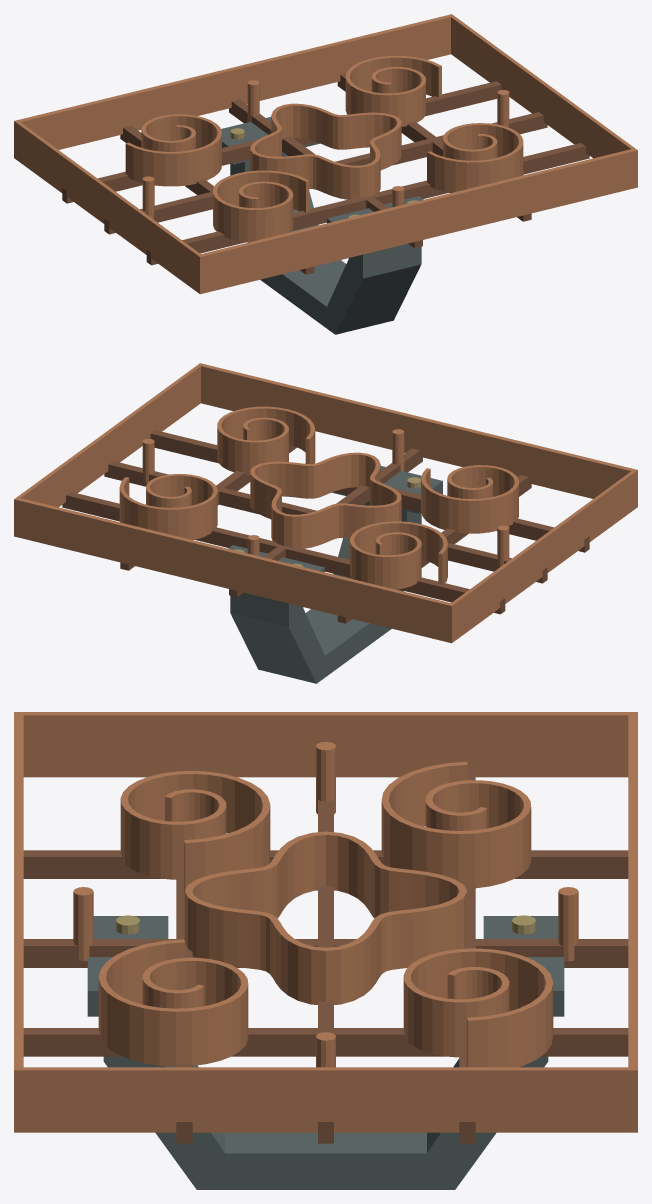
3 renders of one model, top to bottom at view 1: azimuth 30°, elevation 25°; view 2: azimuth 150°, elevation 25°; view 3: azimuth 270°, elevation 25°, orthographic. The views are drawn at different scales.
Visible parts, largest first — view 1: WholeContinuousCopperBorderStrip, WholeCentralFourLobeContinuousCopperLoop, WholeReturnArchIronHandGrip, WholeInventedInwardScrollStrip3, WholeInventedInwardScrollStrip0, WholeInventedInwardScrollStrip1, WholeInventedInwardScrollStrip2, WholeLongBackGridBar0, WholeLongBackGridBar1, WholeLongBackGridBar2, WholeShortBackGridBar1, WholeShortBackGridBar2 (+5 smaller); view 2: WholeContinuousCopperBorderStrip, WholeCentralFourLobeContinuousCopperLoop, WholeReturnArchIronHandGrip, WholeInventedInwardScrollStrip0, WholeInventedInwardScrollStrip3, WholeInventedInwardScrollStrip1, WholeInventedInwardScrollStrip2, WholeLongBackGridBar2, WholeLongBackGridBar1, WholeLongBackGridBar0, WholeShortBackGridBar1, WholeGripRootPlate0 (+5 smaller); view 3: WholeContinuousCopperBorderStrip, WholeCentralFourLobeContinuousCopperLoop, WholeReturnArchIronHandGrip, WholeInventedInwardScrollStrip1, WholeInventedInwardScrollStrip2, WholeInventedInwardScrollStrip3, WholeInventedInwardScrollStrip0, WholeShortBackGridBar2, WholeShortBackGridBar0, WholeShortBackGridBar1, WholeLongBackGridBar1, WholeGripRootPlate1 (+7 smaller).
Part boxes in pixels (x1,y1,x2,y2): WholeContinuousCopperBorderStrip: [14, 14, 637, 294]; WholeCentralFourLobeContinuousCopperLoop: [250, 103, 401, 199]; WholeReturnArchIronHandGrip: [230, 152, 421, 334]; WholeInventedInwardScrollStrip3: [125, 114, 221, 186]; WholeInventedInwardScrollStrip0: [213, 170, 309, 242]; WholeInventedInwardScrollStrip1: [427, 123, 523, 193]; WholeInventedInwardScrollStrip2: [345, 56, 441, 126]; WholeLongBackGridBar0: [146, 143, 589, 265]; WholeLongBackGridBar1: [104, 112, 547, 234]; WholeLongBackGridBar2: [62, 81, 501, 203]; WholeShortBackGridBar1: [229, 99, 422, 248]; WholeShortBackGridBar2: [337, 73, 531, 221]; WholeContinuousCopperBorderStrip: [14, 363, 637, 643]; WholeCentralFourLobeContinuousCopperLoop: [250, 452, 401, 548]; WholeReturnArchIronHandGrip: [230, 501, 421, 683]; WholeInventedInwardScrollStrip0: [421, 465, 518, 533]; WholeInventedInwardScrollStrip3: [350, 521, 447, 589]; WholeInventedInwardScrollStrip1: [217, 406, 315, 474]; WholeInventedInwardScrollStrip2: [119, 474, 217, 539]; WholeLongBackGridBar2: [62, 492, 505, 614]; WholeLongBackGridBar1: [104, 461, 547, 583]; WholeLongBackGridBar0: [150, 430, 589, 552]; WholeShortBackGridBar1: [229, 448, 422, 597]; WholeGripRootPlate0: [332, 466, 442, 513]; WholeContinuousCopperBorderStrip: [14, 712, 637, 1132]; WholeCentralFourLobeContinuousCopperLoop: [184, 831, 467, 1004]; WholeReturnArchIronHandGrip: [103, 1056, 548, 1189]; WholeInventedInwardScrollStrip1: [98, 939, 248, 1066]; WholeInventedInwardScrollStrip2: [403, 948, 553, 1067]; WholeInventedInwardScrollStrip3: [381, 761, 531, 888]; WholeInventedInwardScrollStrip0: [120, 771, 270, 892]; WholeShortBackGridBar2: [23, 1028, 628, 1056]; WholeShortBackGridBar0: [23, 850, 628, 878]; WholeShortBackGridBar1: [23, 939, 628, 967]; WholeLongBackGridBar1: [318, 800, 333, 1143]; WholeGripRootPlate1: [483, 916, 564, 1016].
Size of the model in its own units: 0.21 by 0.075 by 0.1544.
